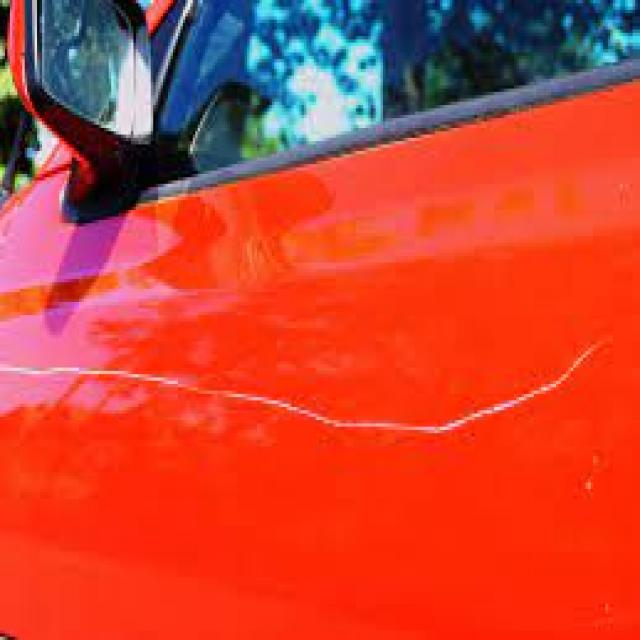minor: (0, 322, 616, 470)
